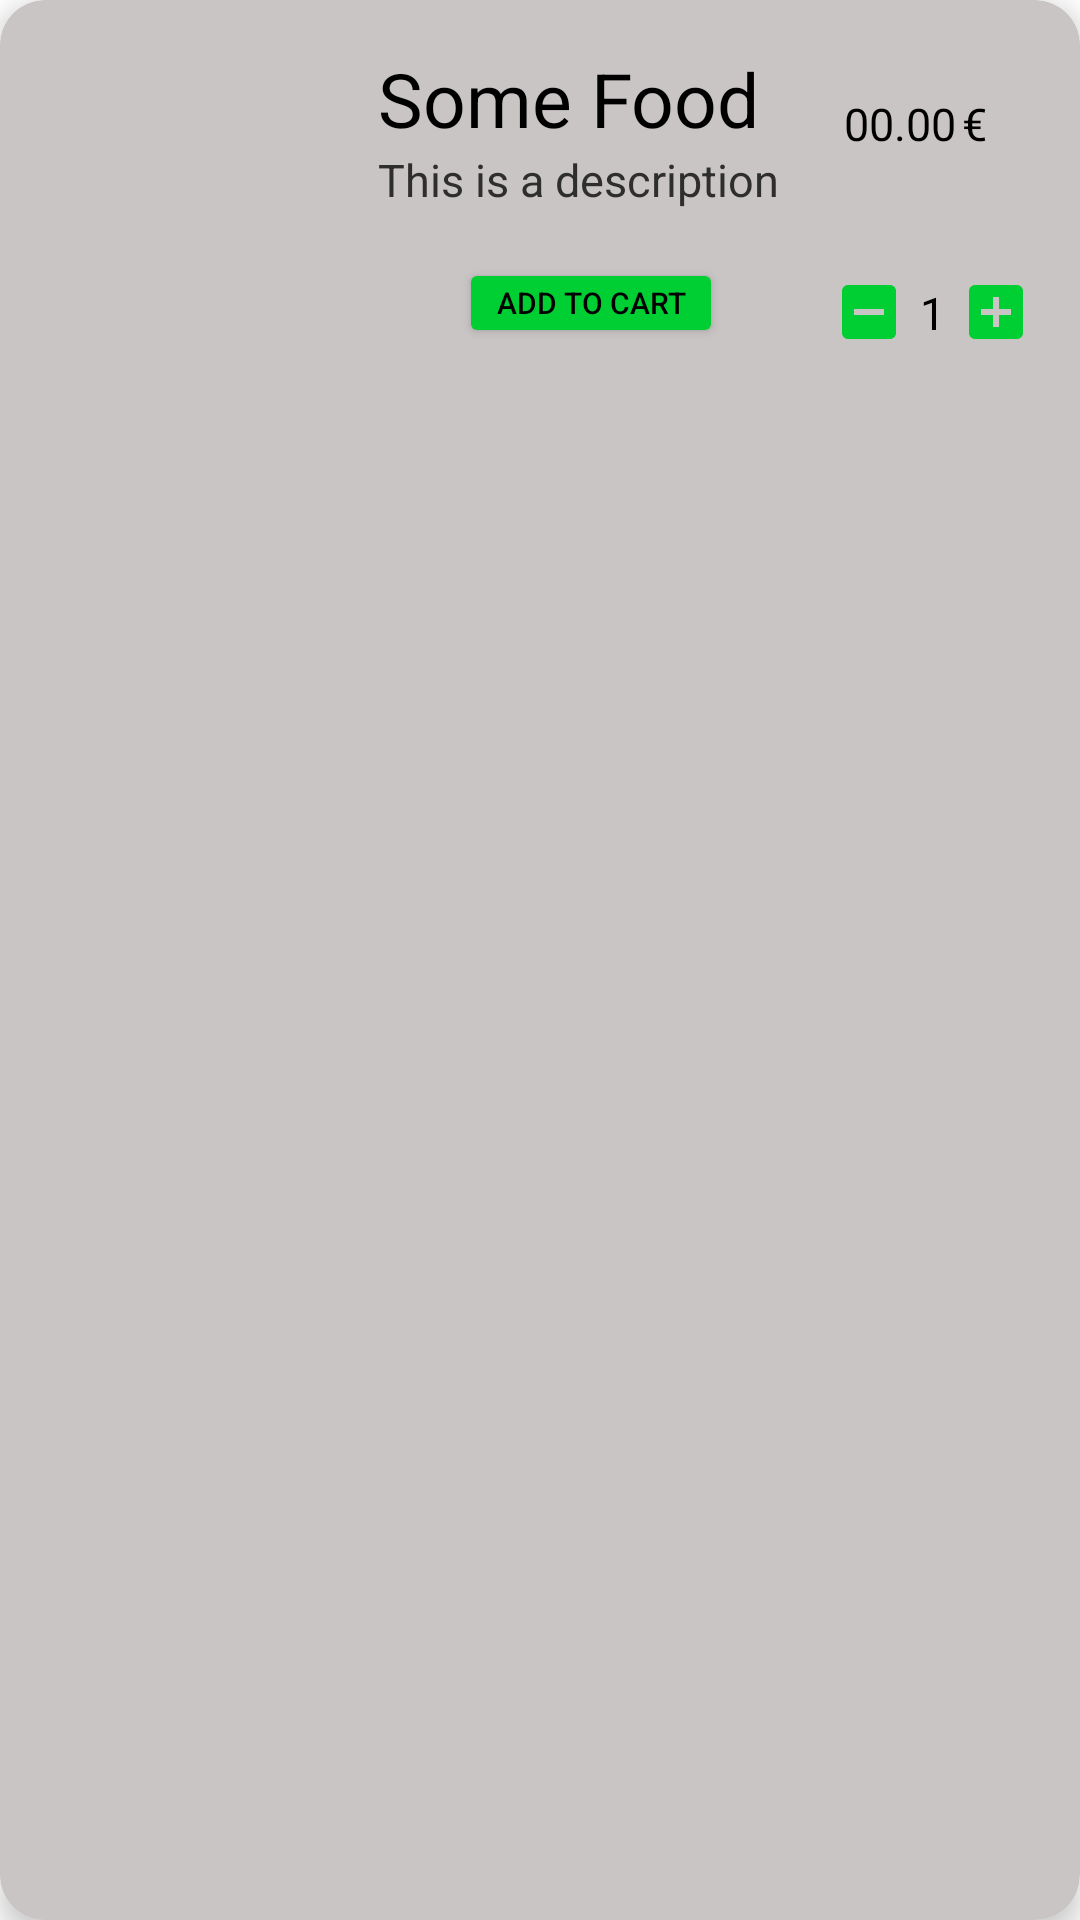

Icons on this 1080*1920 Android screen, each with its box as (x1, y1, x2, y2):
add box: (969, 285, 1023, 339)
minus box: (842, 285, 896, 339)
